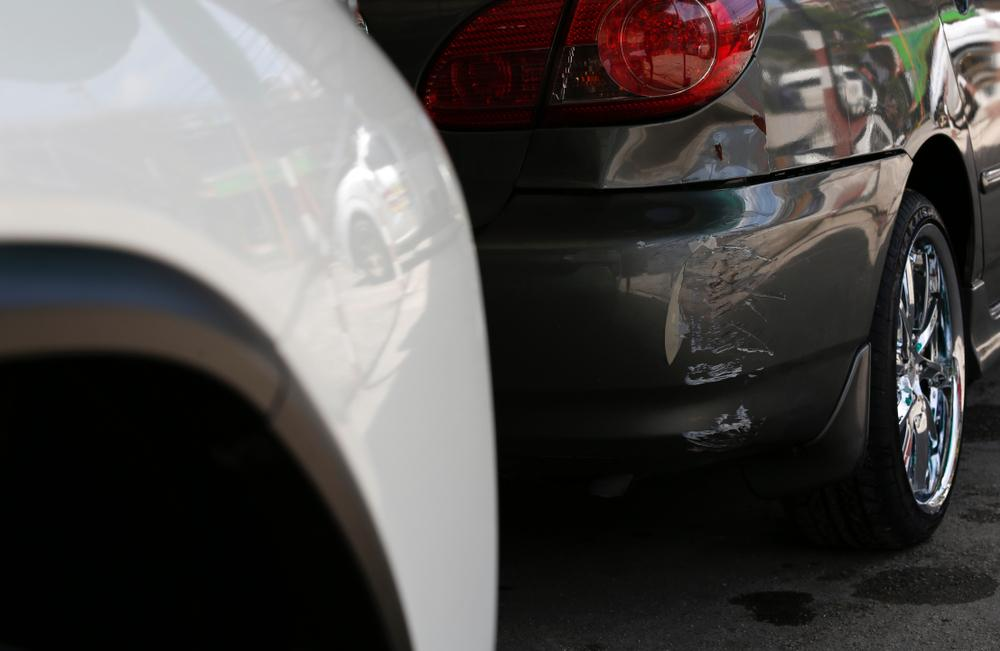dent: (606, 99, 773, 190)
scratch: (650, 207, 793, 452)
